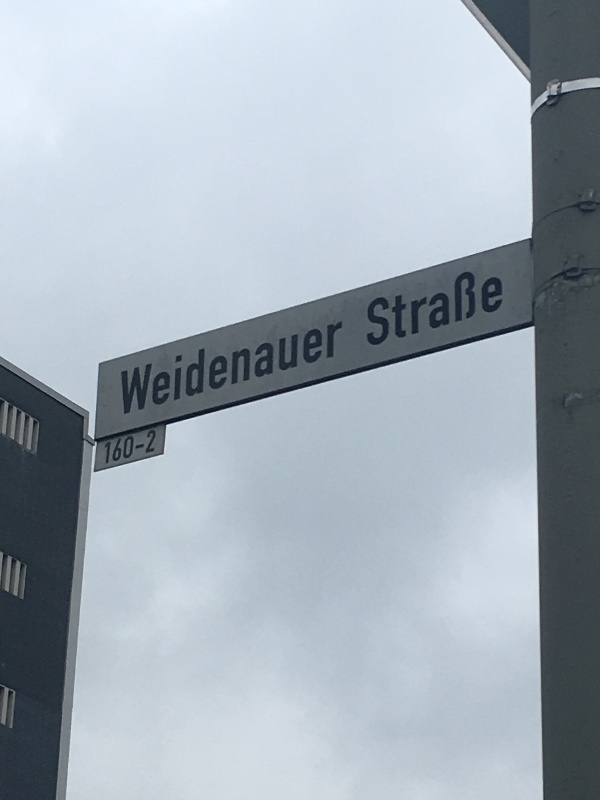text: (129, 312, 144, 417), (145, 312, 160, 417), (161, 312, 176, 417), (177, 312, 192, 417), (193, 312, 208, 417), (209, 312, 224, 417), (225, 312, 240, 417), (241, 312, 256, 417), (257, 312, 272, 417), (273, 312, 288, 417), (289, 312, 304, 417), (305, 312, 320, 417), (321, 312, 336, 417), (369, 259, 384, 351), (385, 259, 400, 351), (401, 259, 416, 351), (417, 259, 432, 351), (433, 259, 448, 351), (449, 259, 464, 351), (465, 259, 480, 351), (481, 259, 496, 351), (337, 312, 349, 417), (120, 312, 128, 417), (497, 259, 506, 351), (113, 427, 128, 465), (129, 427, 144, 465), (145, 427, 158, 465), (105, 427, 112, 465)
